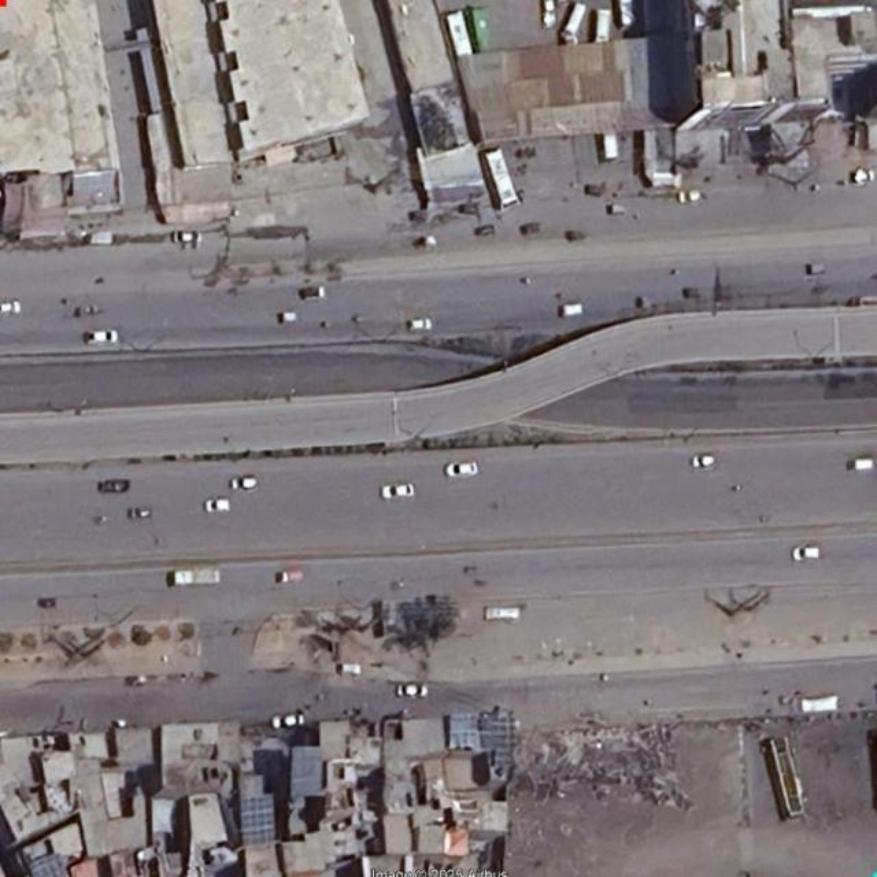Solarpanel: (240, 794, 274, 845)
